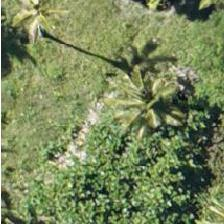Kelapa_Sawit: (103, 55, 193, 145)
